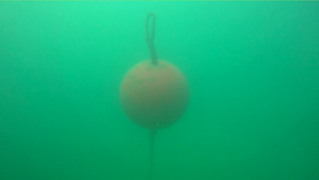bubble: (182, 56, 187, 61)
buoy: (118, 59, 190, 130)
